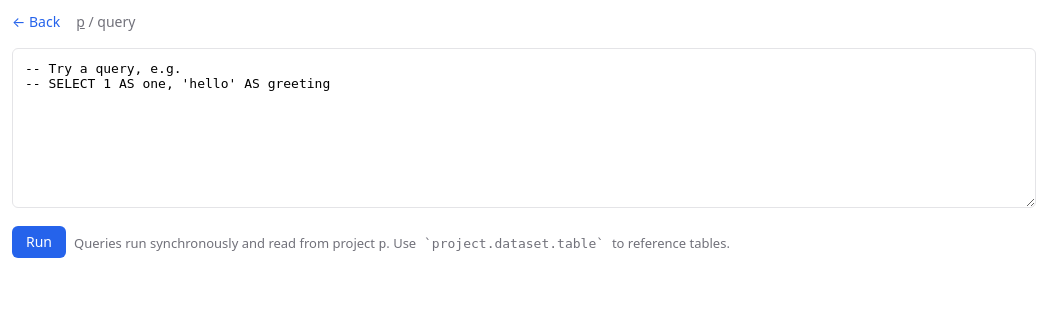
Test: QueryConsole › shows the error message when the API returns one
Click the button "Run" at (39,242), box x1=12 y1=226 x2=66 y2=258
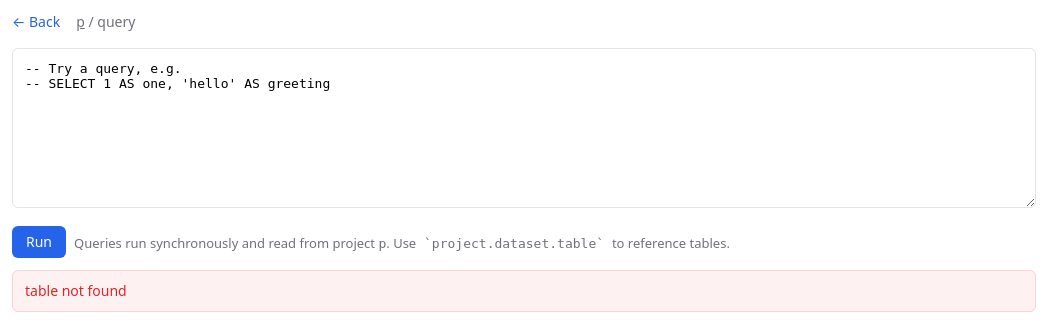
Expected: the text "table not found" is shown, x1=12 y1=270 x2=1036 y2=312
